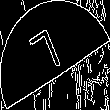L_SE: (35, 25, 75, 85)
